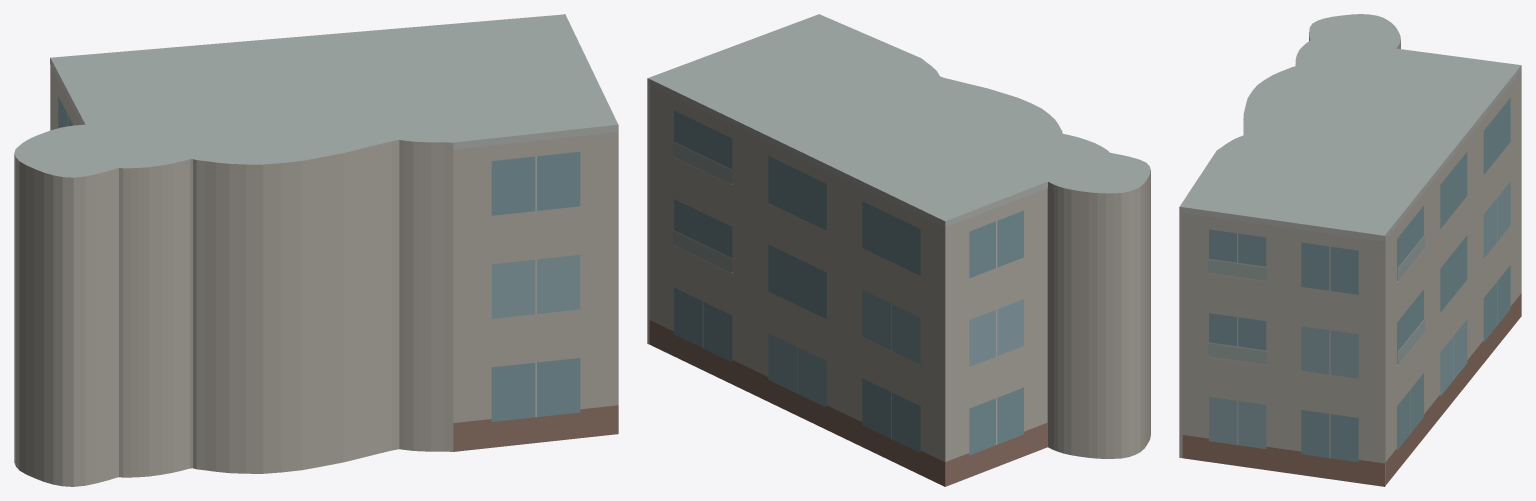
The model's file is survey-upis-32856676.glb.
3 views of the same model, side by side, from view 1: azimuth 30°, elevation 25°; view 2: azimuth 150°, elevation 25°; view 3: azimuth 270°, elevation 25° (orthographic). The views are drawn at different scales.
Parts seen in each view (by area): view 1: survey-upis-32856676.tmp; view 2: survey-upis-32856676.tmp; view 3: survey-upis-32856676.tmp.
Boxes of the visible parts, x1,y1,x2,y2 form: survey-upis-32856676.tmp: (14,14,618,486); survey-upis-32856676.tmp: (647,14,1150,486); survey-upis-32856676.tmp: (1179,14,1521,486).
Bounding box in the file's own units: 19.91 × 10.5 × 12.98.
